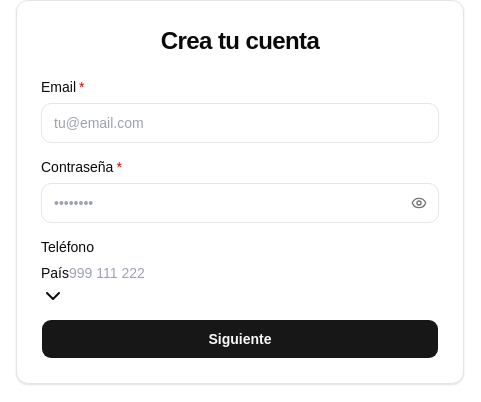
it: letters typed in the number are dropped
In the field labelled "Teléfono": {"x": 160, "y": 274} [69, 263, 250, 284], type "abc 999-111"
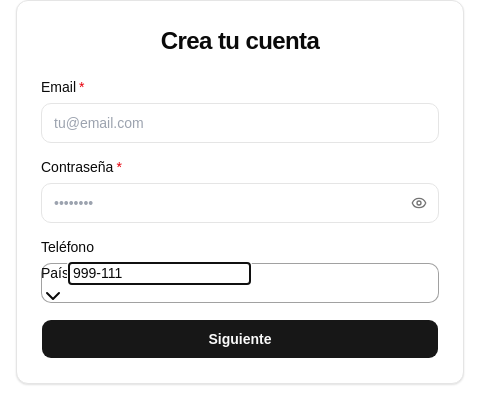
Check: the field labelled "Teléfono" holds " 999-111", box [69, 263, 250, 284]
